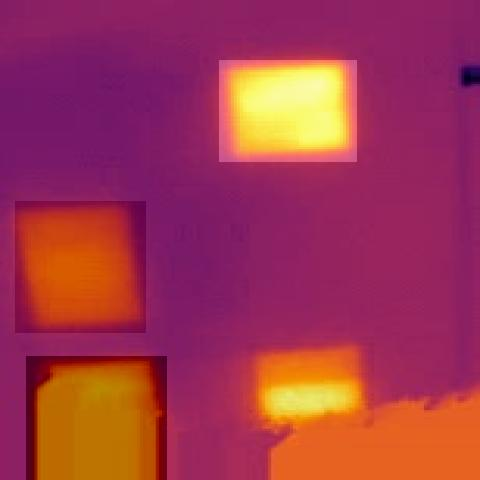fault: (26, 356, 167, 480), (15, 201, 146, 333), (219, 60, 357, 162), (246, 343, 374, 429)
